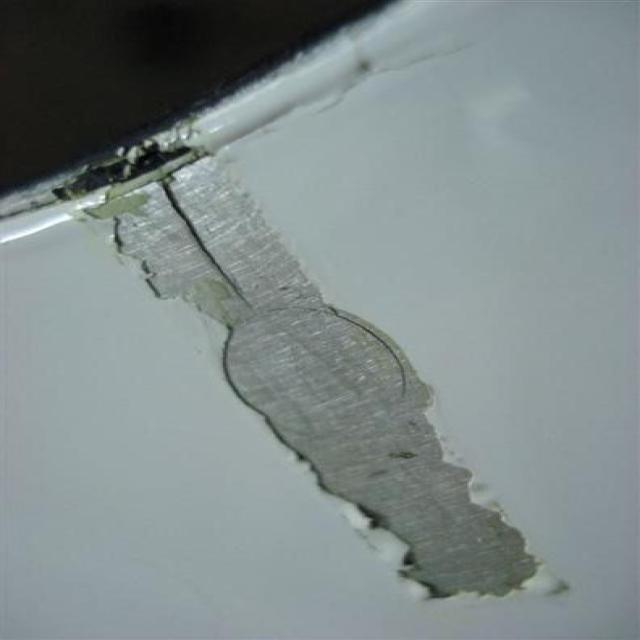Rupture: (112, 174, 341, 358)
